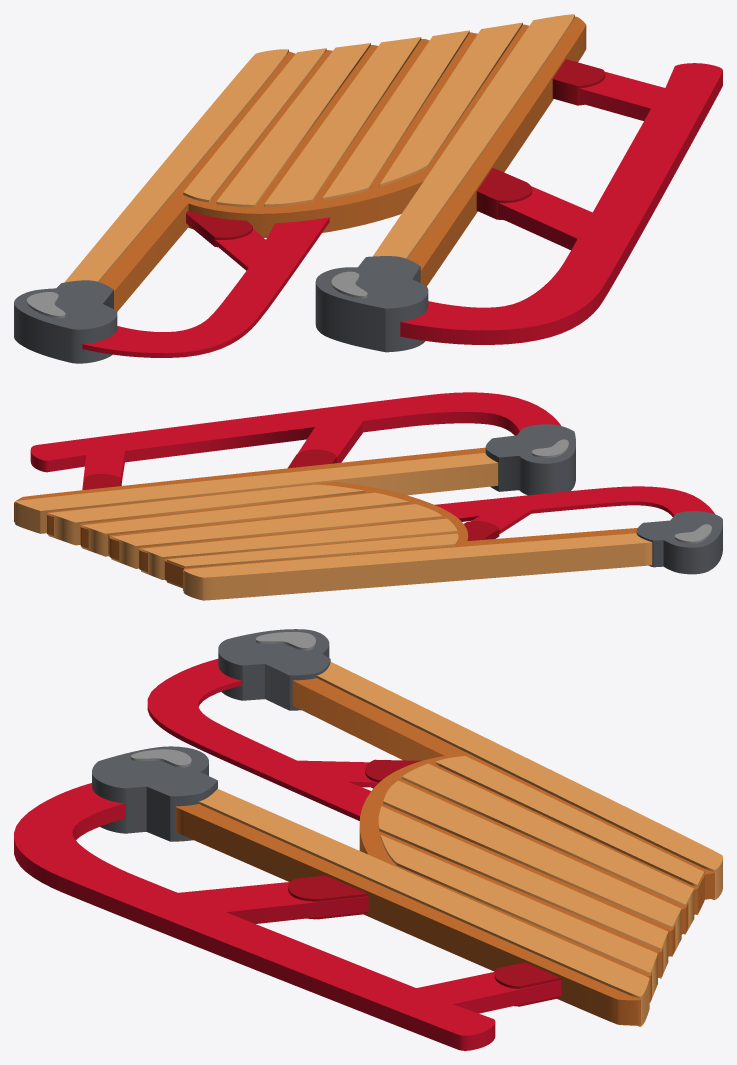
Rendered from emoji_u1f6f7.glb.
3 views of the same model, one above another, from view 1: azimuth 30°, elevation 25°; view 2: azimuth 150°, elevation 25°; view 3: azimuth 270°, elevation 25° (orthographic). The views are drawn at different scales.
Visible parts, largest first — view 1: emoji_u1f6f7; view 2: emoji_u1f6f7; view 3: emoji_u1f6f7.
Part boxes in pixels (x1,y1,x2,y2): emoji_u1f6f7: (14, 14, 722, 363); emoji_u1f6f7: (14, 392, 722, 600); emoji_u1f6f7: (14, 629, 722, 1050).
Bounding box in the file's own units: 0.0338 × 0.002 × 0.0255.
